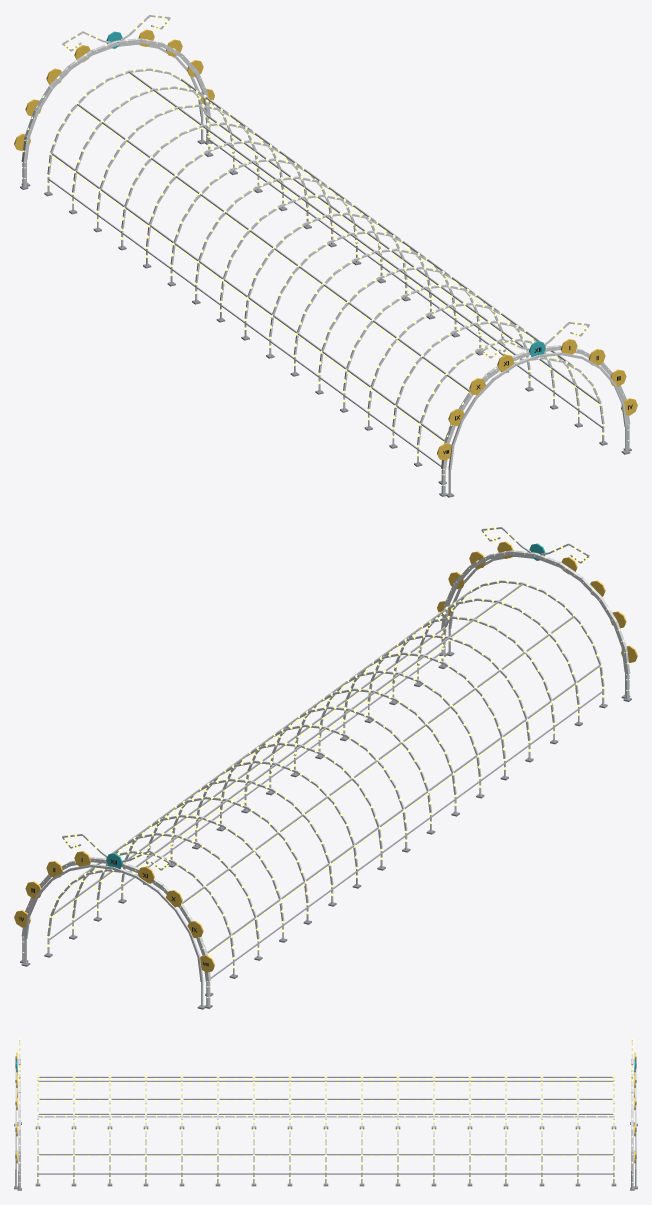
File: ong.glb
3 views of the same model, one above another, from view 1: azimuth 30°, elevation 25°; view 2: azimuth 150°, elevation 25°; view 3: azimuth 270°, elevation 25° (orthographic). The views are drawn at different scales.
Visible parts, largest first — view 1: base; view 2: base; view 3: base.
Part boxes in pixels (<box>): base: <box>14,14,637,497</box>; base: <box>14,526,637,1009</box>; base: <box>14,1038,637,1190</box>.
Size of the model in its own units: 5.98 by 4.07 by 22.1.
